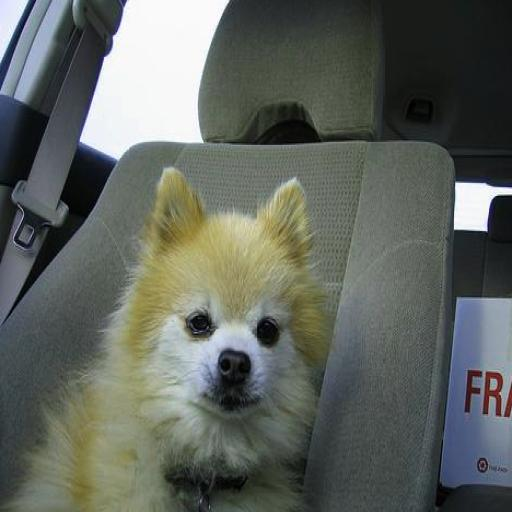dog_face: (149, 176, 318, 418)
